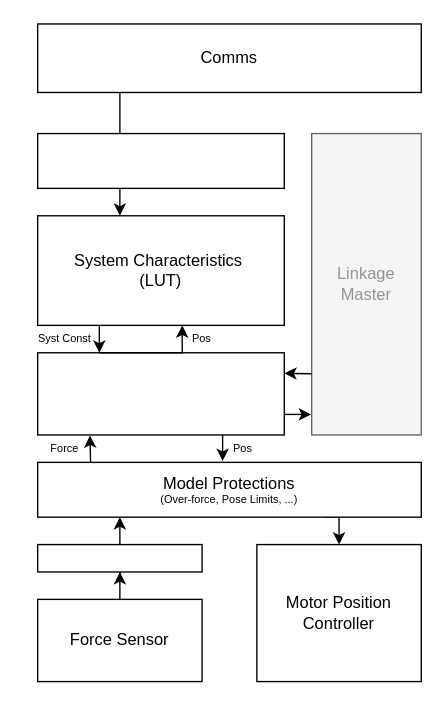
Image size: 445x706. Some labels were removed from this diagram. Here are the shapes that lost their labels. From the top down, the centre of each, then its label:
At pixel 160 160: "FiFo (Dynamic Syst Input)".
At pixel 160 393: "Mass-Spring-Damper".
At pixel 119 557: "Filters".
